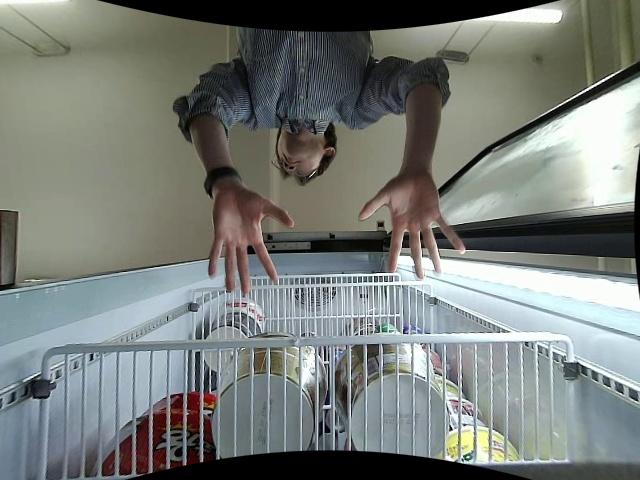00_hand: (359, 180, 465, 283), (208, 190, 295, 297)
